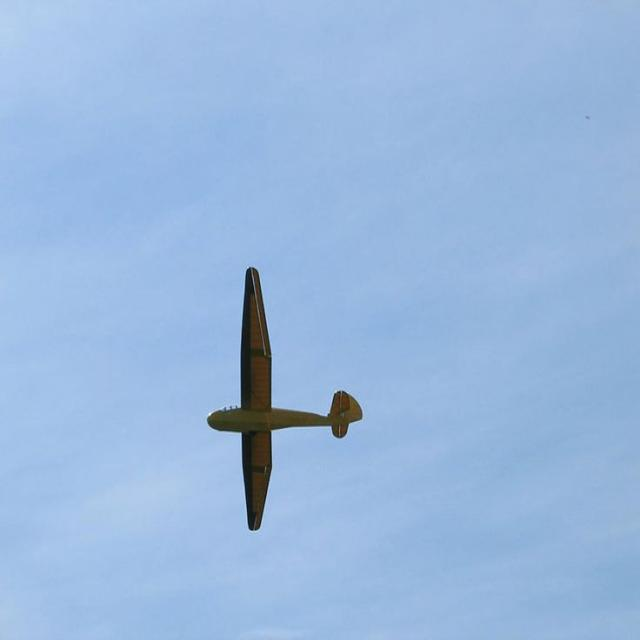iha: (206, 263, 363, 534)
